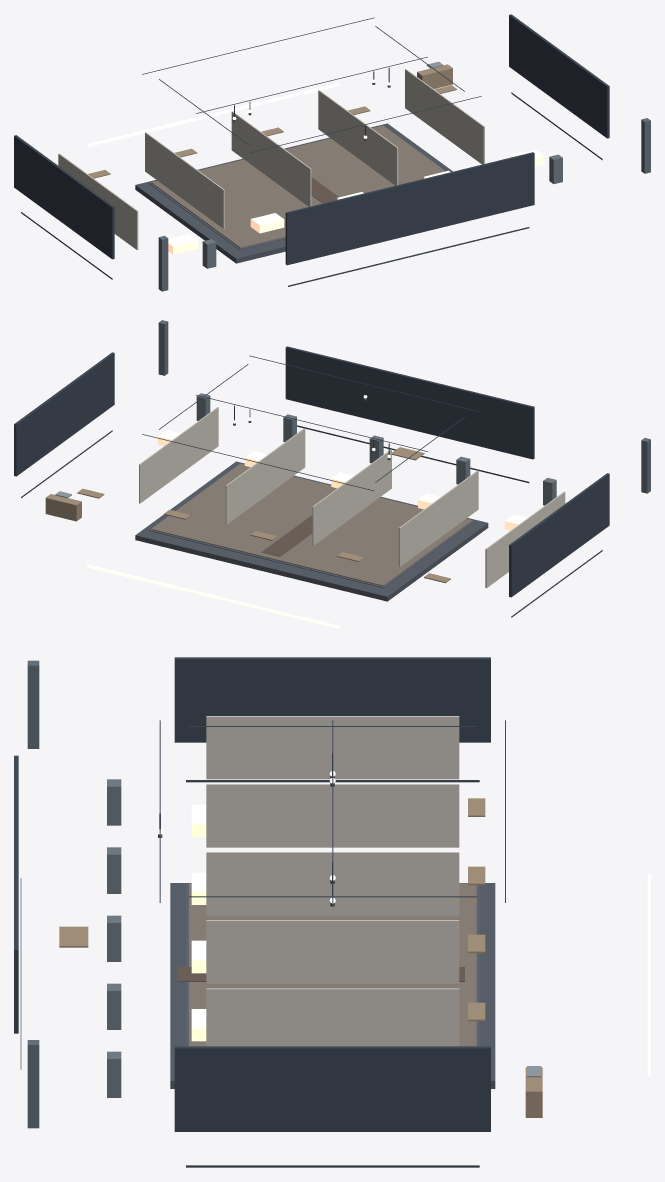
File: floor-penthouses.glb
3 renders of one model, top to bottom at view 1: azimuth 30°, elevation 25°; view 2: azimuth 150°, elevation 25°; view 3: azimuth 270°, elevation 25°, orthographic. The views are drawn at different scales.
Visible parts, largest first — view 1: WallBack_shelter, UnitFloor, WallR_shelter, WallL_shelter, Partition_2, Partition_3, Partition_1, Partition_4, Slab_shelter, Partition_0, Reveal_shelter, KitchenCounter (+7 smaller); view 2: UnitFloor, WallBack_shelter, Slab_shelter, WallL_shelter, WallR_shelter, Partition_1, Partition_3, Partition_4, Partition_2, Partition_0, Reveal_shelter, IntFloor_shelter (+4 smaller); view 3: WallR_shelter, WallL_shelter, Partition_3, Partition_1, Partition_2, Partition_0, Partition_4, UnitFloor, Slab_shelter, WallBack_shelter, Post_shelter_-1, Post_shelter_1 (+5 smaller).
Part boxes in pixels (x1,y1,x2,y2): WallBack_shelter: (285,152,534,265); UnitFloor: (151,125,445,248); WallR_shelter: (509,14,609,138); WallL_shelter: (14,135,114,259); Partition_2: (231,111,311,206); Partition_3: (318,90,398,185); Partition_1: (145,132,224,228); Partition_4: (405,69,484,164); Slab_shelter: (135,123,452,263); Partition_0: (58,153,138,249); Reveal_shelter: (87,82,340,146); KitchenCounter: (417,64,452,88); UnitFloor: (151,463,472,586); WallBack_shelter: (285,346,534,459); Slab_shelter: (135,461,488,601); WallL_shelter: (509,473,609,597); WallR_shelter: (14,352,114,476); Partition_1: (398,470,478,566); Partition_3: (225,428,305,524); Partition_4: (139,407,218,503); Partition_2: (312,449,391,545); Partition_0: (485,491,565,587); Reveal_shelter: (87,564,340,628); IntFloor_shelter: (148,464,474,588); WallR_shelter: (174,1046,490,1131); WallL_shelter: (174,657,490,742); Partition_3: (206,920,459,983); Partition_1: (206,784,459,847); Partition_2: (206,852,459,915); Partition_0: (206,716,459,779); Partition_4: (206,988,459,1046); UnitFloor: (189,883,476,1046); Slab_shelter: (170,883,495,1088); WallBack_shelter: (14,755,18,1033); Post_shelter_-1: (27,660,39,748); Post_shelter_1: (27,1040,39,1128).
Bounding box in the file's own units: 16.08 × 3.42 × 11.07.
